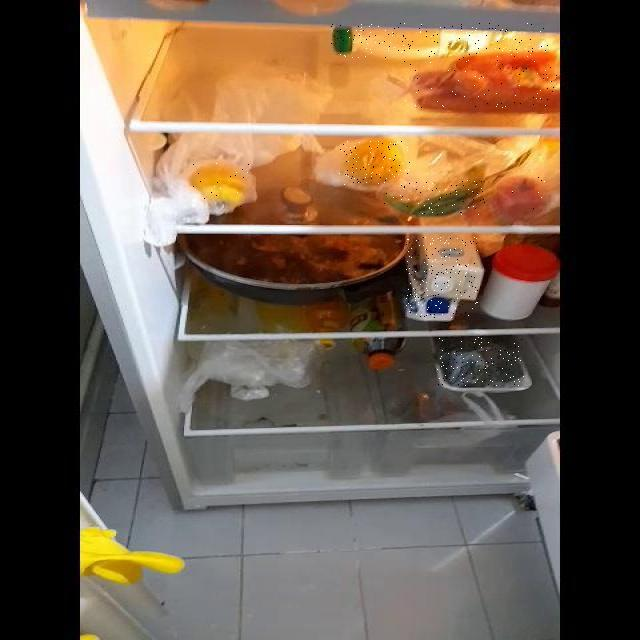broccoli: (437, 337, 524, 386)
carrot: (404, 57, 557, 111)
green chilies: (384, 180, 485, 215)
lemon: (338, 141, 411, 185), (193, 162, 251, 208)
milk: (331, 23, 549, 58), (406, 237, 478, 318)
tomato: (498, 177, 554, 215)
